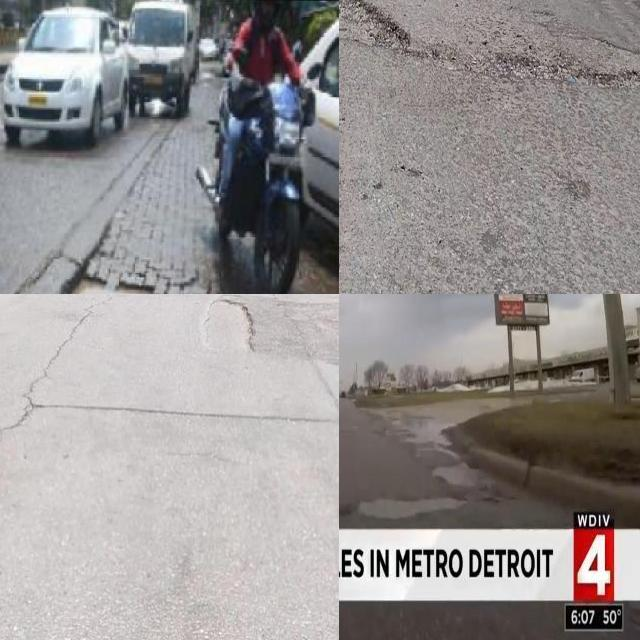Pothole: (402, 422, 487, 501), (339, 0, 413, 57), (361, 490, 459, 525), (205, 297, 255, 352), (339, 500, 357, 520)
